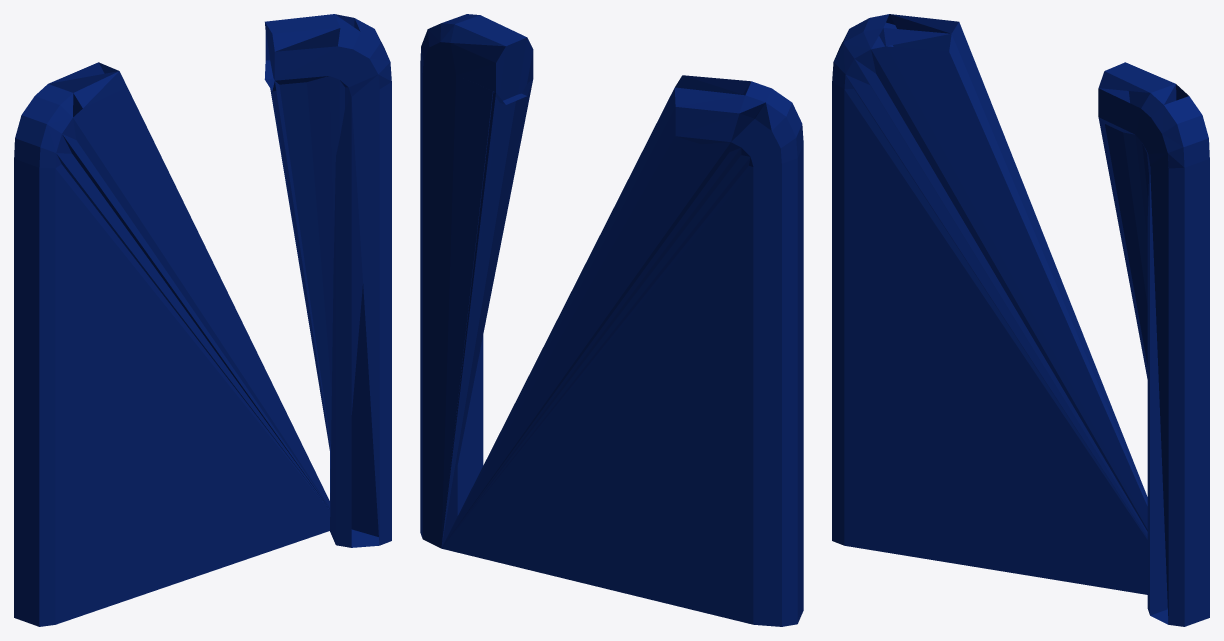
Rendered from S.S._Dolphin_part.025.obj.
3 renders of one model, left to right at view 1: azimuth 30°, elevation 25°; view 2: azimuth 150°, elevation 25°; view 3: azimuth 330°, elevation 25°, orthographic.
Parts seen in each view (by area): view 1: S.S._Dolphin_part.025; view 2: S.S._Dolphin_part.025; view 3: S.S._Dolphin_part.025.
Boxes of the visible parts, x1,y1,x2,y2 form: S.S._Dolphin_part.025: (14,14,391,626); S.S._Dolphin_part.025: (420,14,803,626); S.S._Dolphin_part.025: (832,14,1209,626).
Size of the model in its own units: 3.16 by 4.2 by 0.5921.
